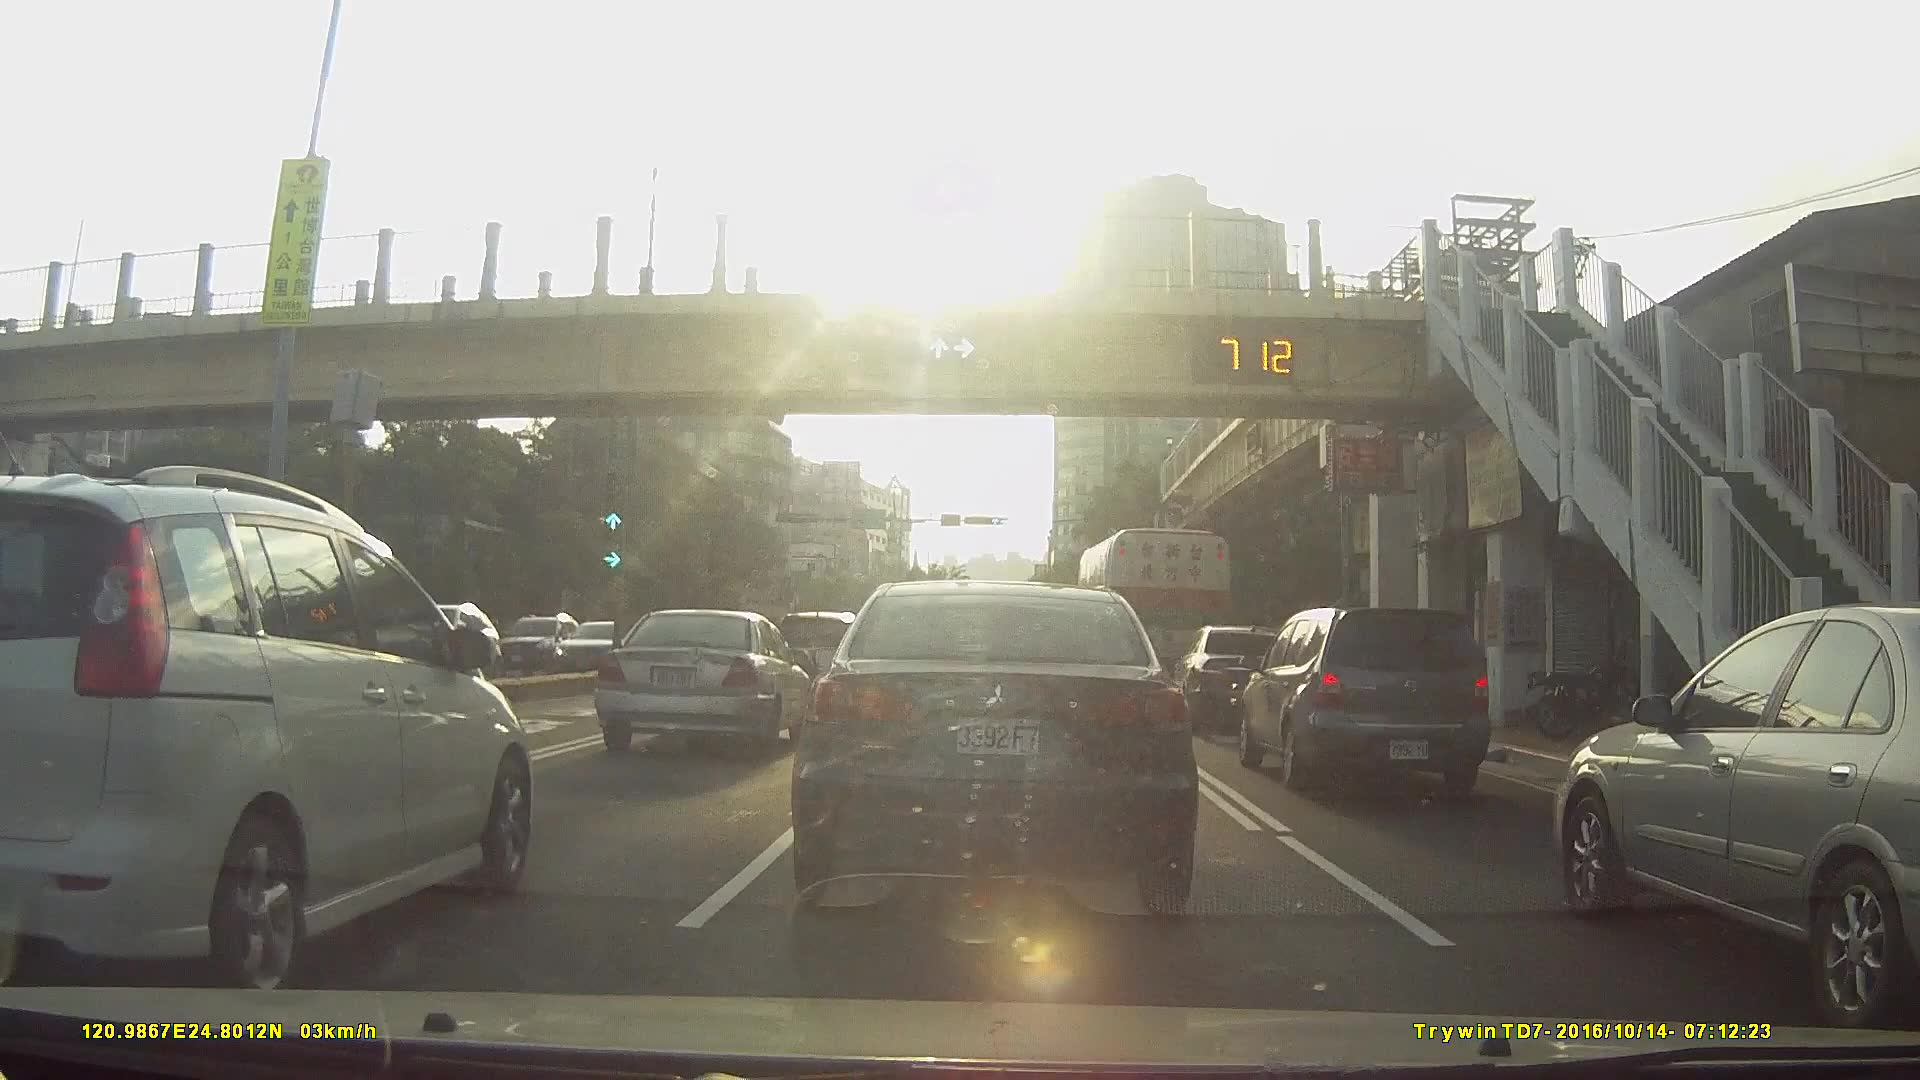vehicle: (0, 465, 543, 997), (1559, 600, 1920, 1034), (795, 579, 1200, 923), (1238, 609, 1495, 796), (600, 607, 820, 756), (1176, 625, 1302, 728), (396, 599, 513, 679), (752, 607, 851, 699), (554, 618, 678, 691), (491, 611, 600, 682)
